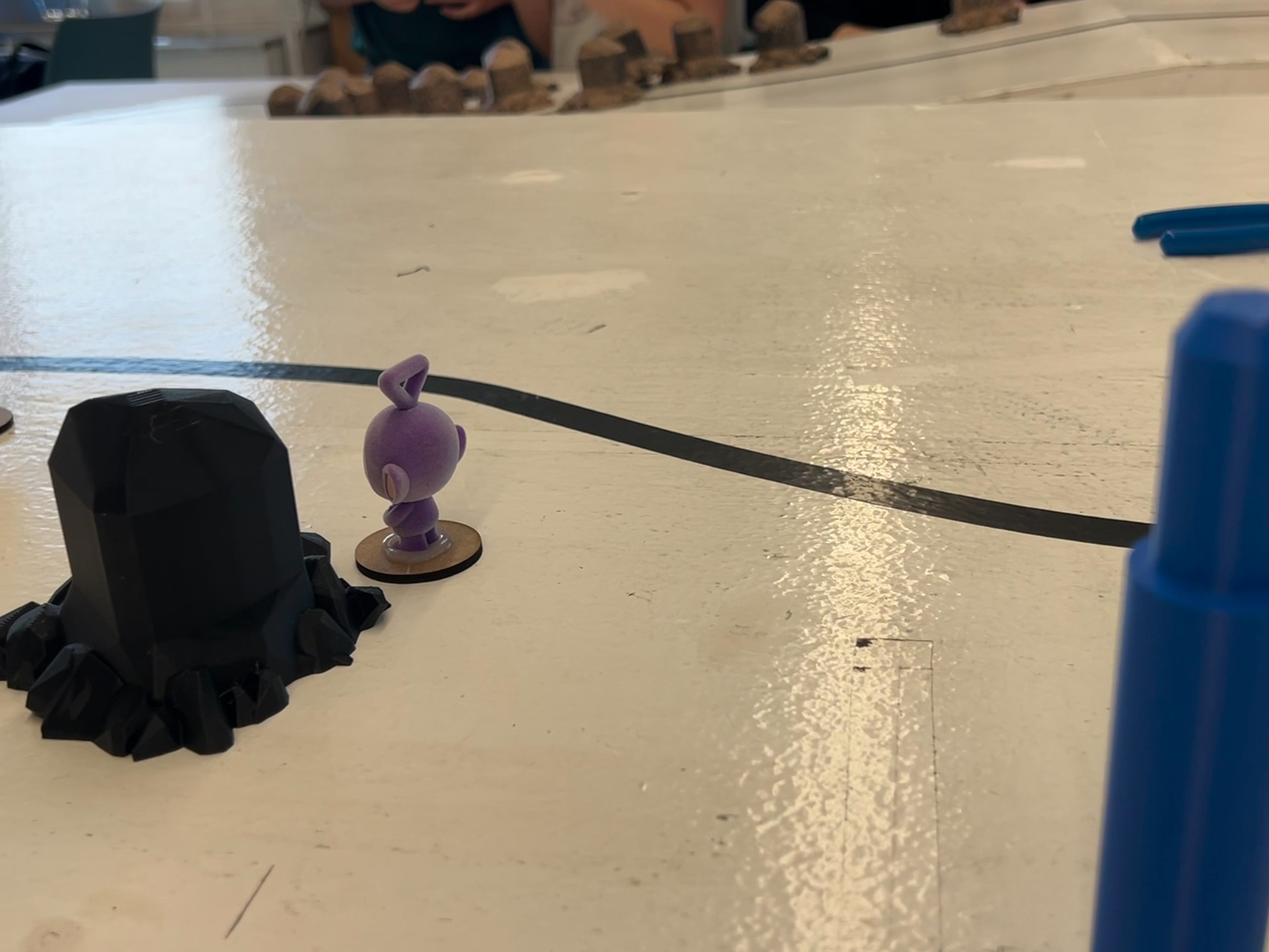teletubby: (364, 355, 465, 561)
